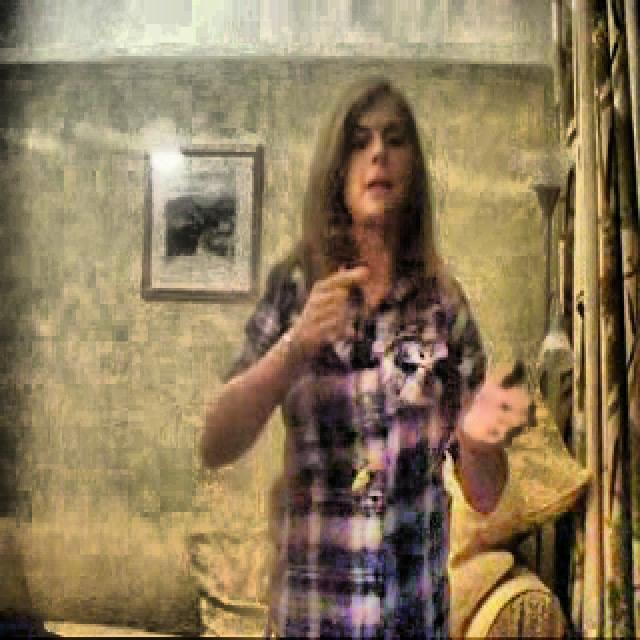F: (200, 79, 512, 638)
